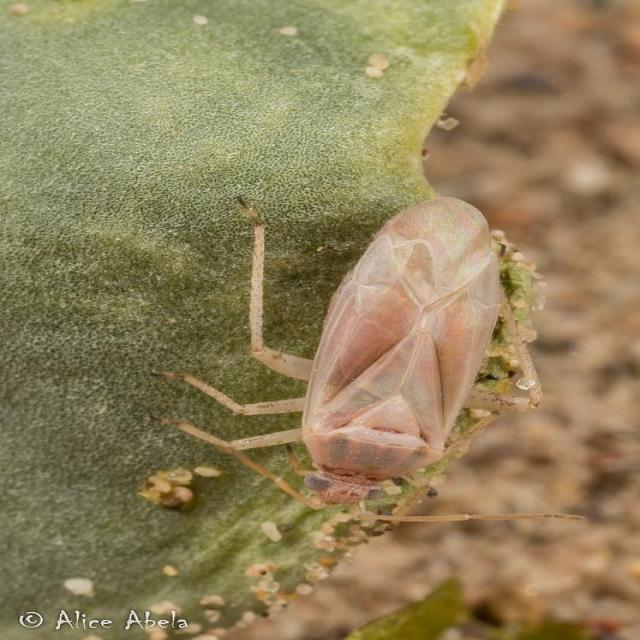Miridae-Adult-: (182, 174, 573, 533)
